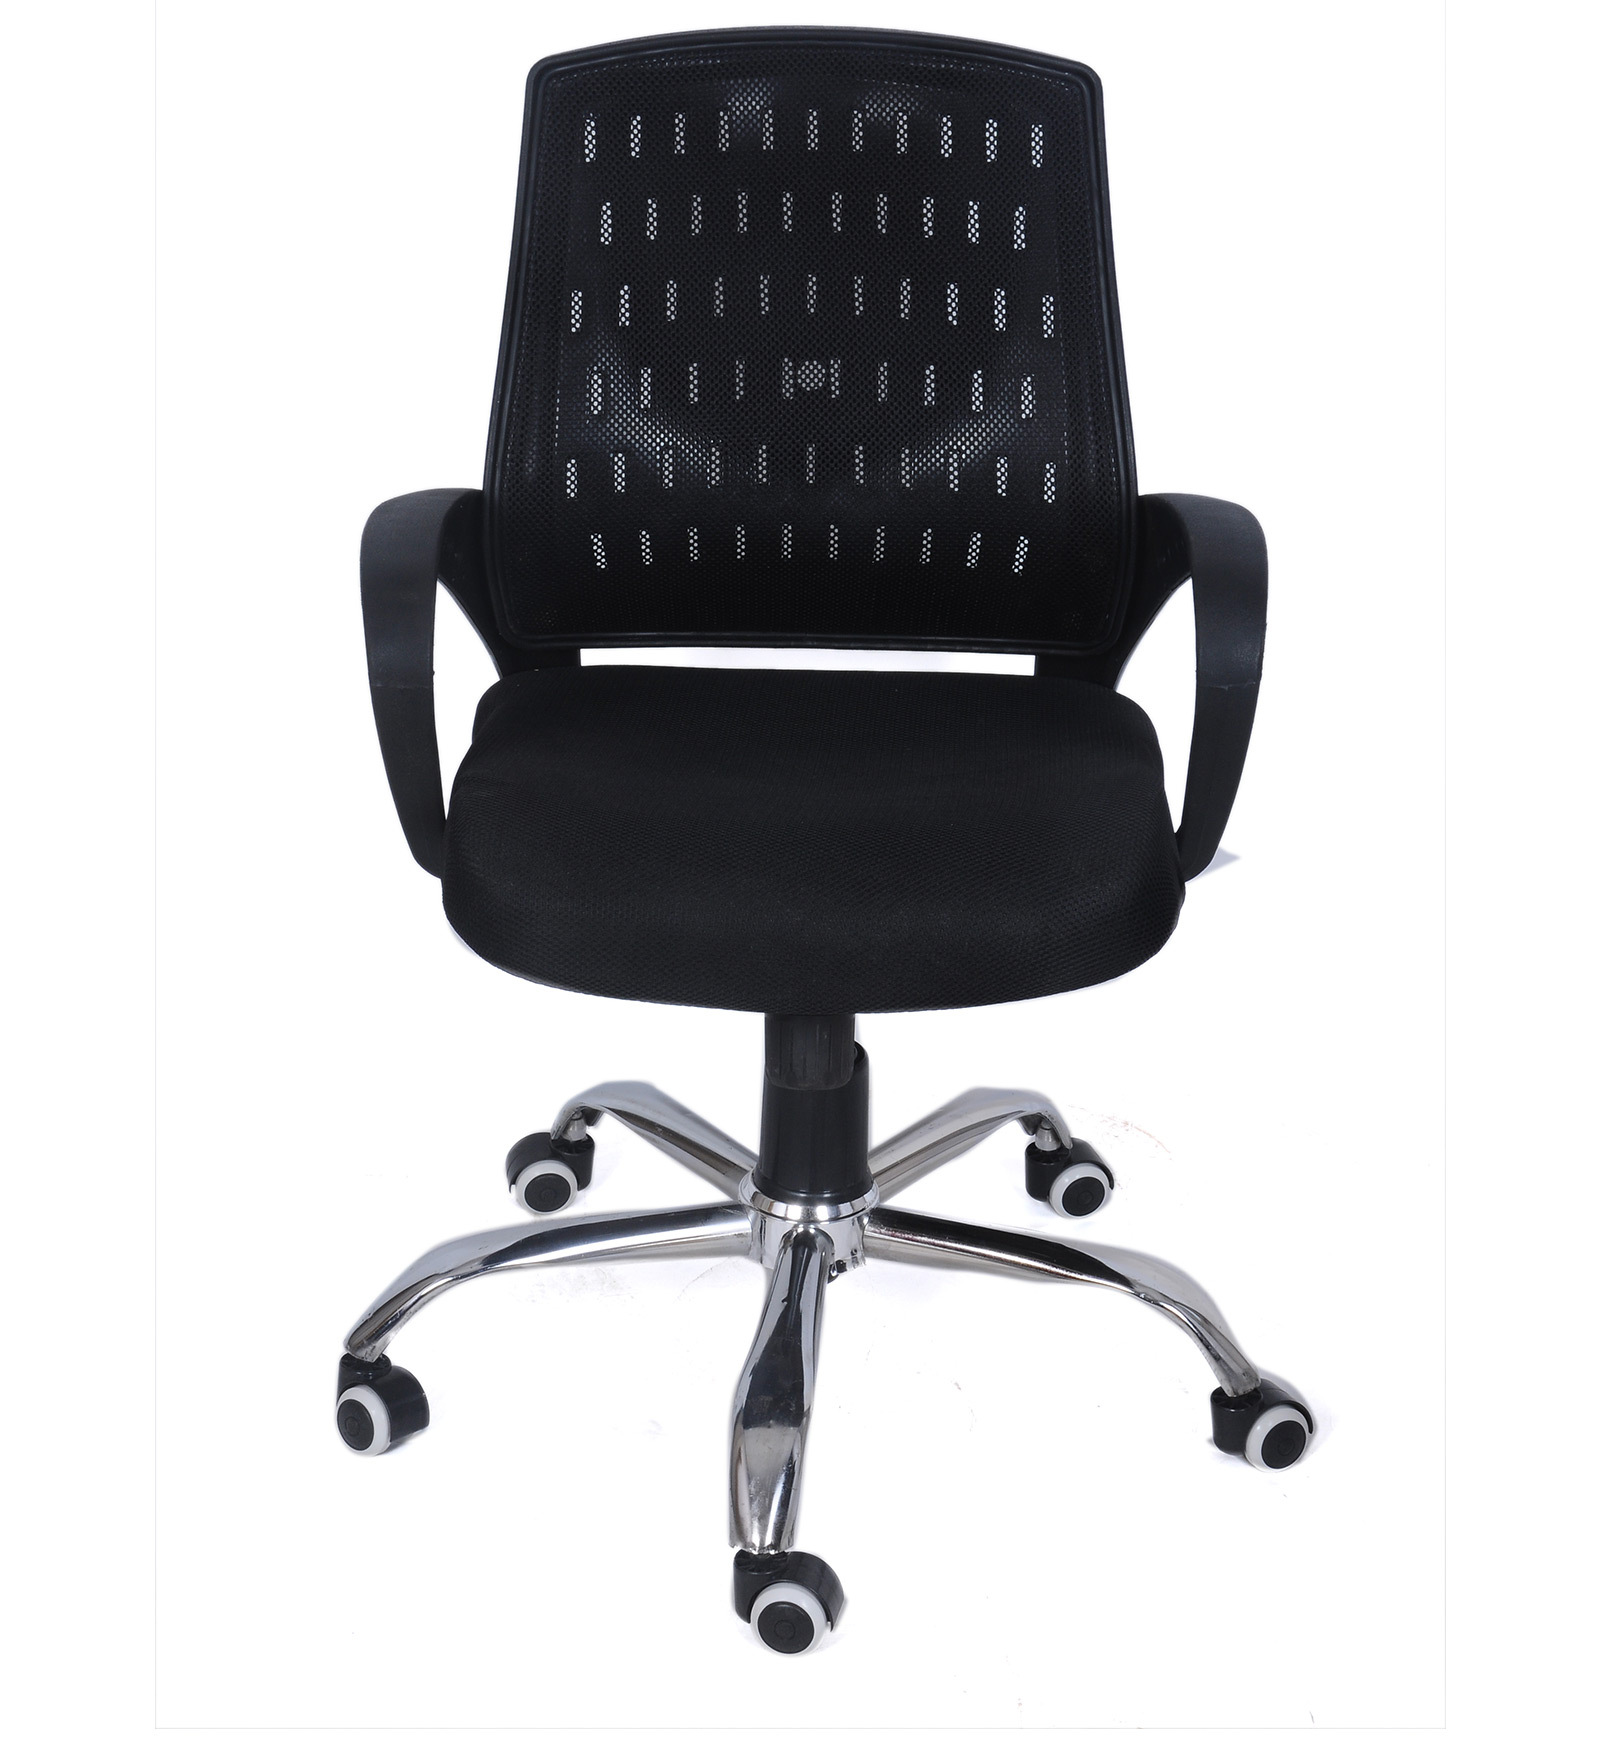Briny Mid Back Ergonomic Chair By Furniease: (311, 8, 1353, 1663)
